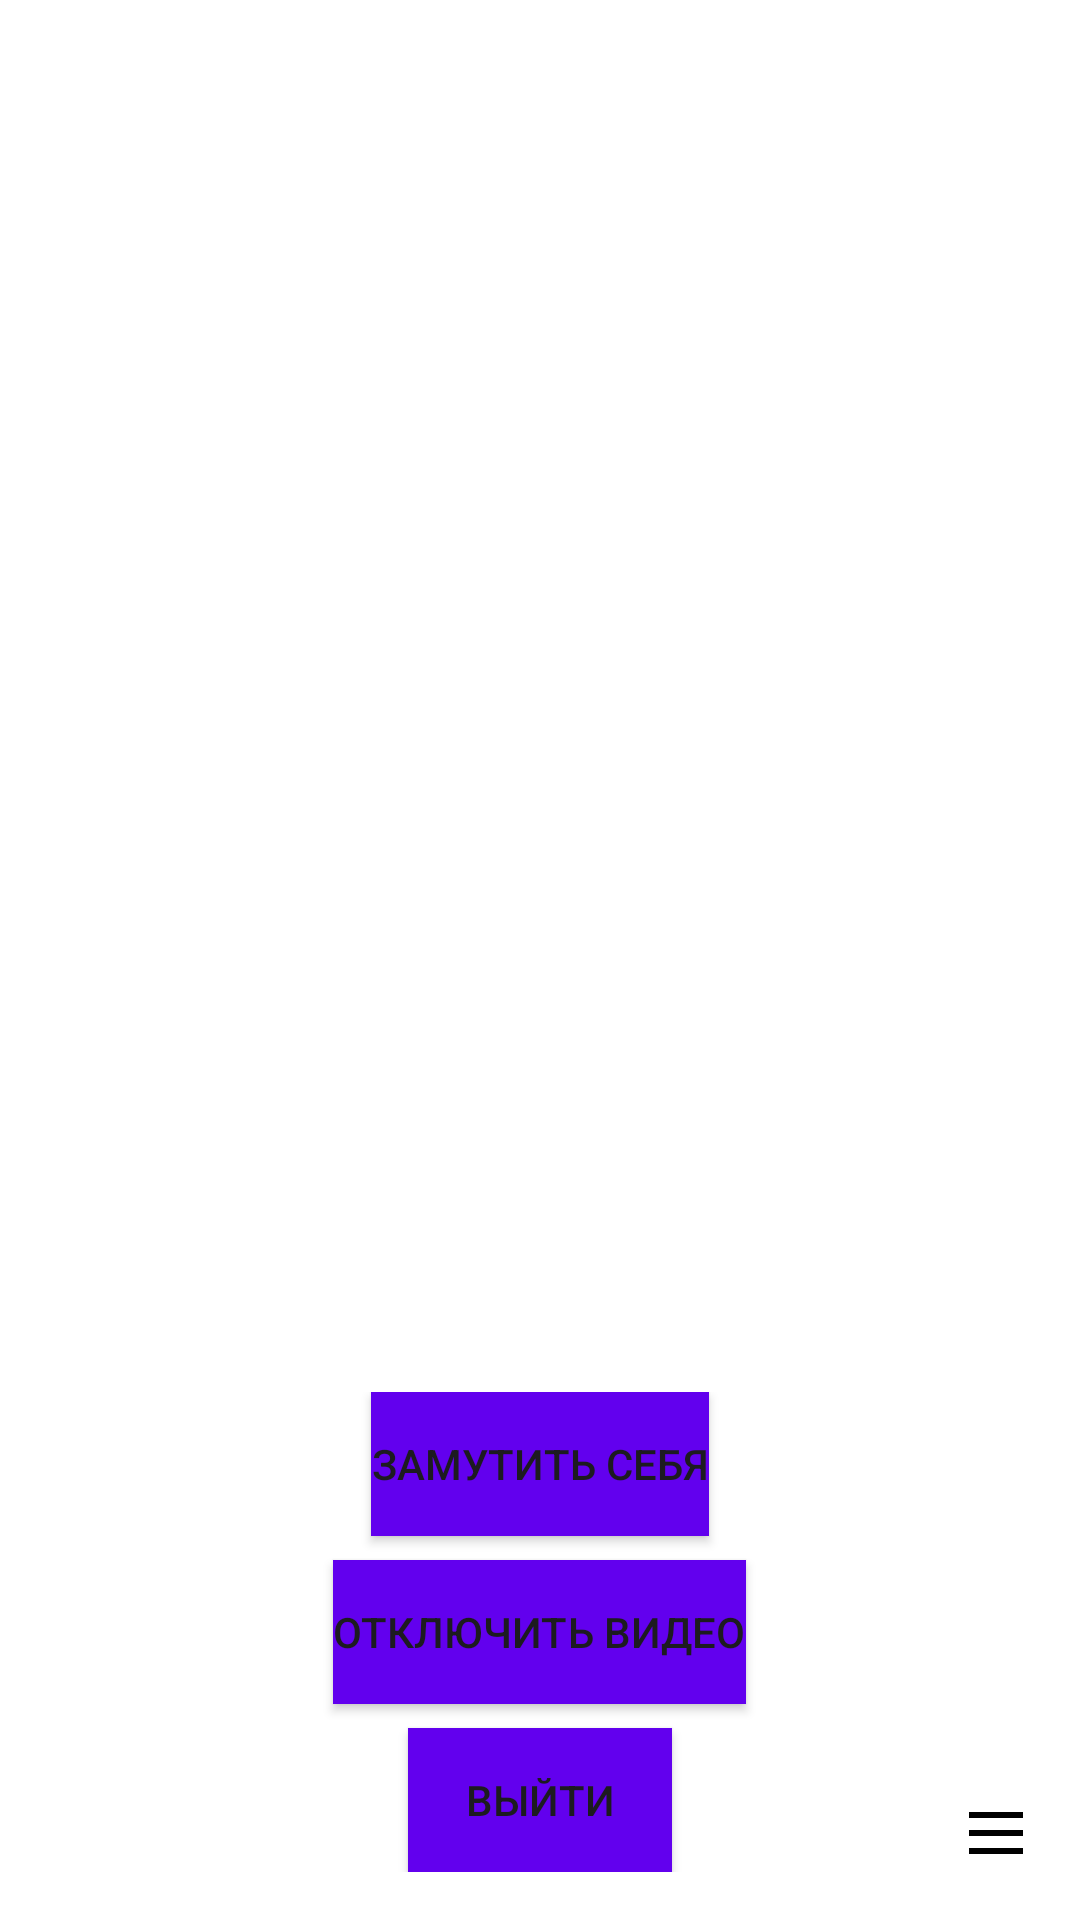

Icon click points for this 1080 × 1920 phone screenshot, format point (x, y):
Меню: point (996, 1833)
